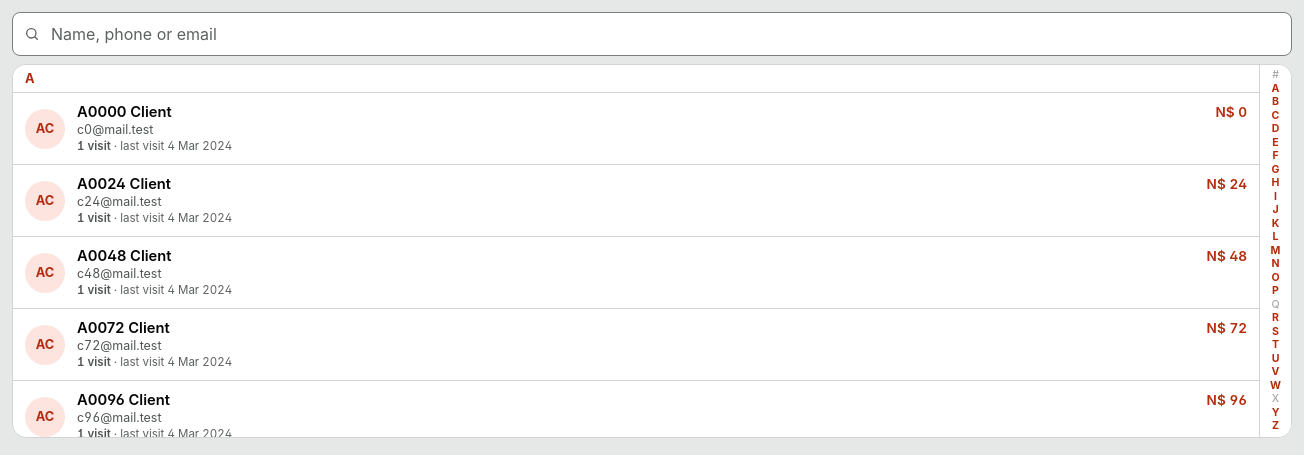
Test case: ClientPicker in browse mode (the Clients tab) › with a large roster › dragging along the rail jumps letter by letter
Press the mouse on the button with test id "clients-letter-A" at (1276, 89), box [1260, 82, 1291, 96]
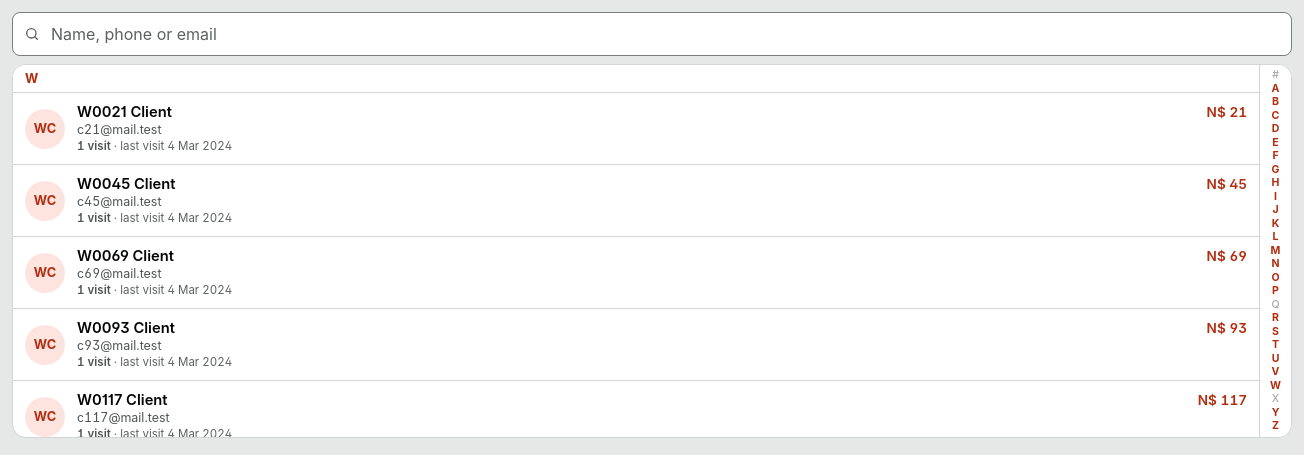
Now the text "W0021 Client" is shown, box [77, 103, 172, 121]
